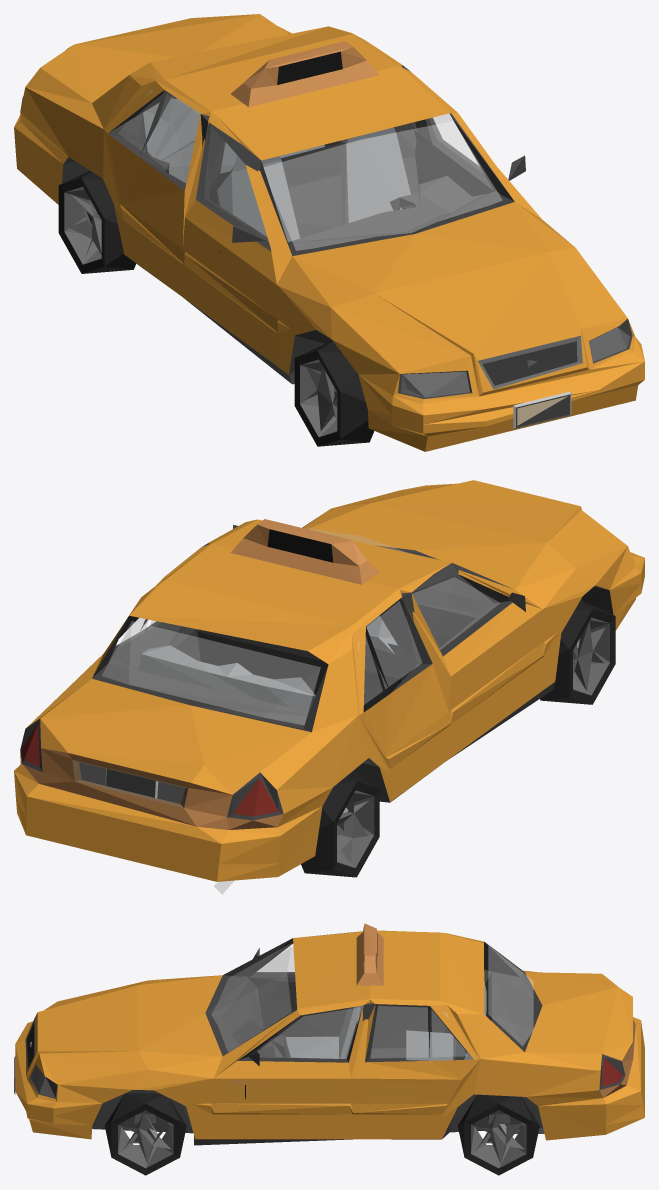
Rendered from taxi.glb.
3 renders of one model, top to bottom at view 1: azimuth 30°, elevation 25°; view 2: azimuth 150°, elevation 25°; view 3: azimuth 270°, elevation 25°, orthographic. The views are drawn at different scales.
Visible parts, largest first — view 1: sedan-taxi; view 2: sedan-taxi; view 3: sedan-taxi.
Part boxes in pixels (bbox=[...]): sedan-taxi: bbox=[14, 14, 644, 451]; sedan-taxi: bbox=[14, 480, 644, 894]; sedan-taxi: bbox=[14, 923, 644, 1175].
Size of the model in its own units: 2.07 by 1.67 by 5.15.
Materials: 2 (1 with a texture image).
